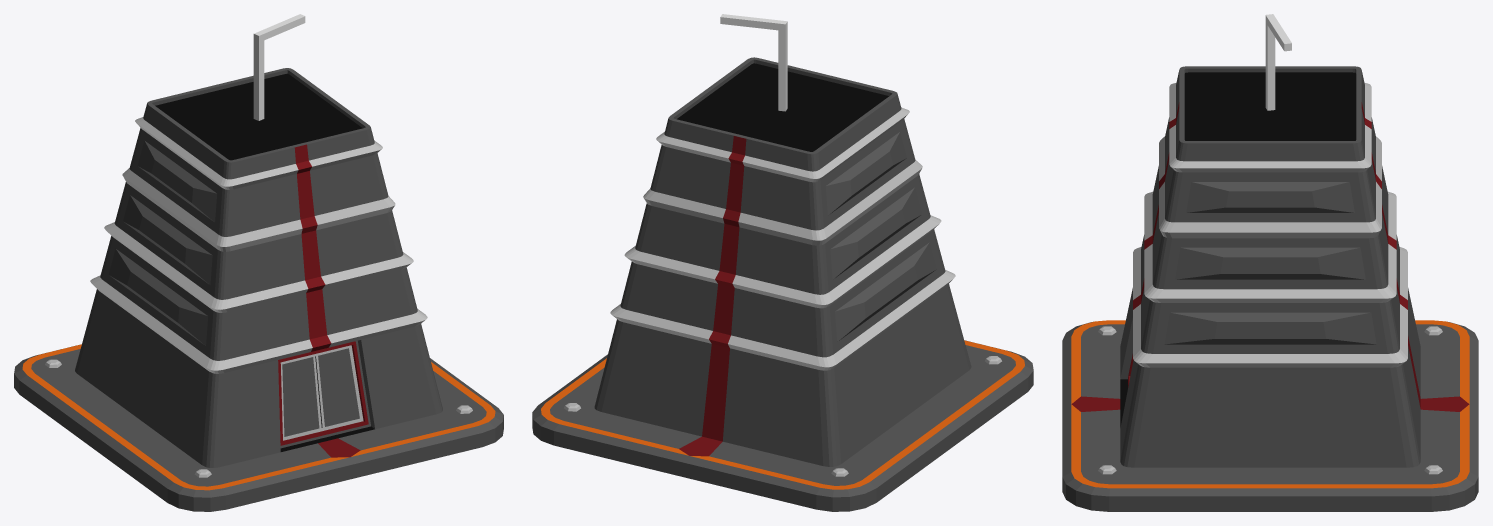
File: barracks_Producing.fbx
3 renders of one model, left to right at view 1: azimuth 30°, elevation 25°; view 2: azimuth 150°, elevation 25°; view 3: azimuth 270°, elevation 25°, orthographic. The views are drawn at different scales.
Visible parts, largest first — view 1: Bunker, Cube.001; view 2: Bunker, Cube.001; view 3: Bunker, Cube.001.
Part boxes in pixels (bbox=[...]): Bunker: bbox=[14, 68, 503, 511]; Cube.001: bbox=[253, 14, 305, 120]; Bunker: bbox=[532, 57, 1033, 511]; Cube.001: bbox=[720, 14, 787, 111]; Bunker: bbox=[1062, 66, 1478, 511]; Cube.001: bbox=[1265, 14, 1291, 110].
Size of the model in its own units: 3.96 by 4.28 by 3.96.
